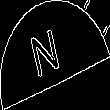N_S: (37, 24, 73, 86)
